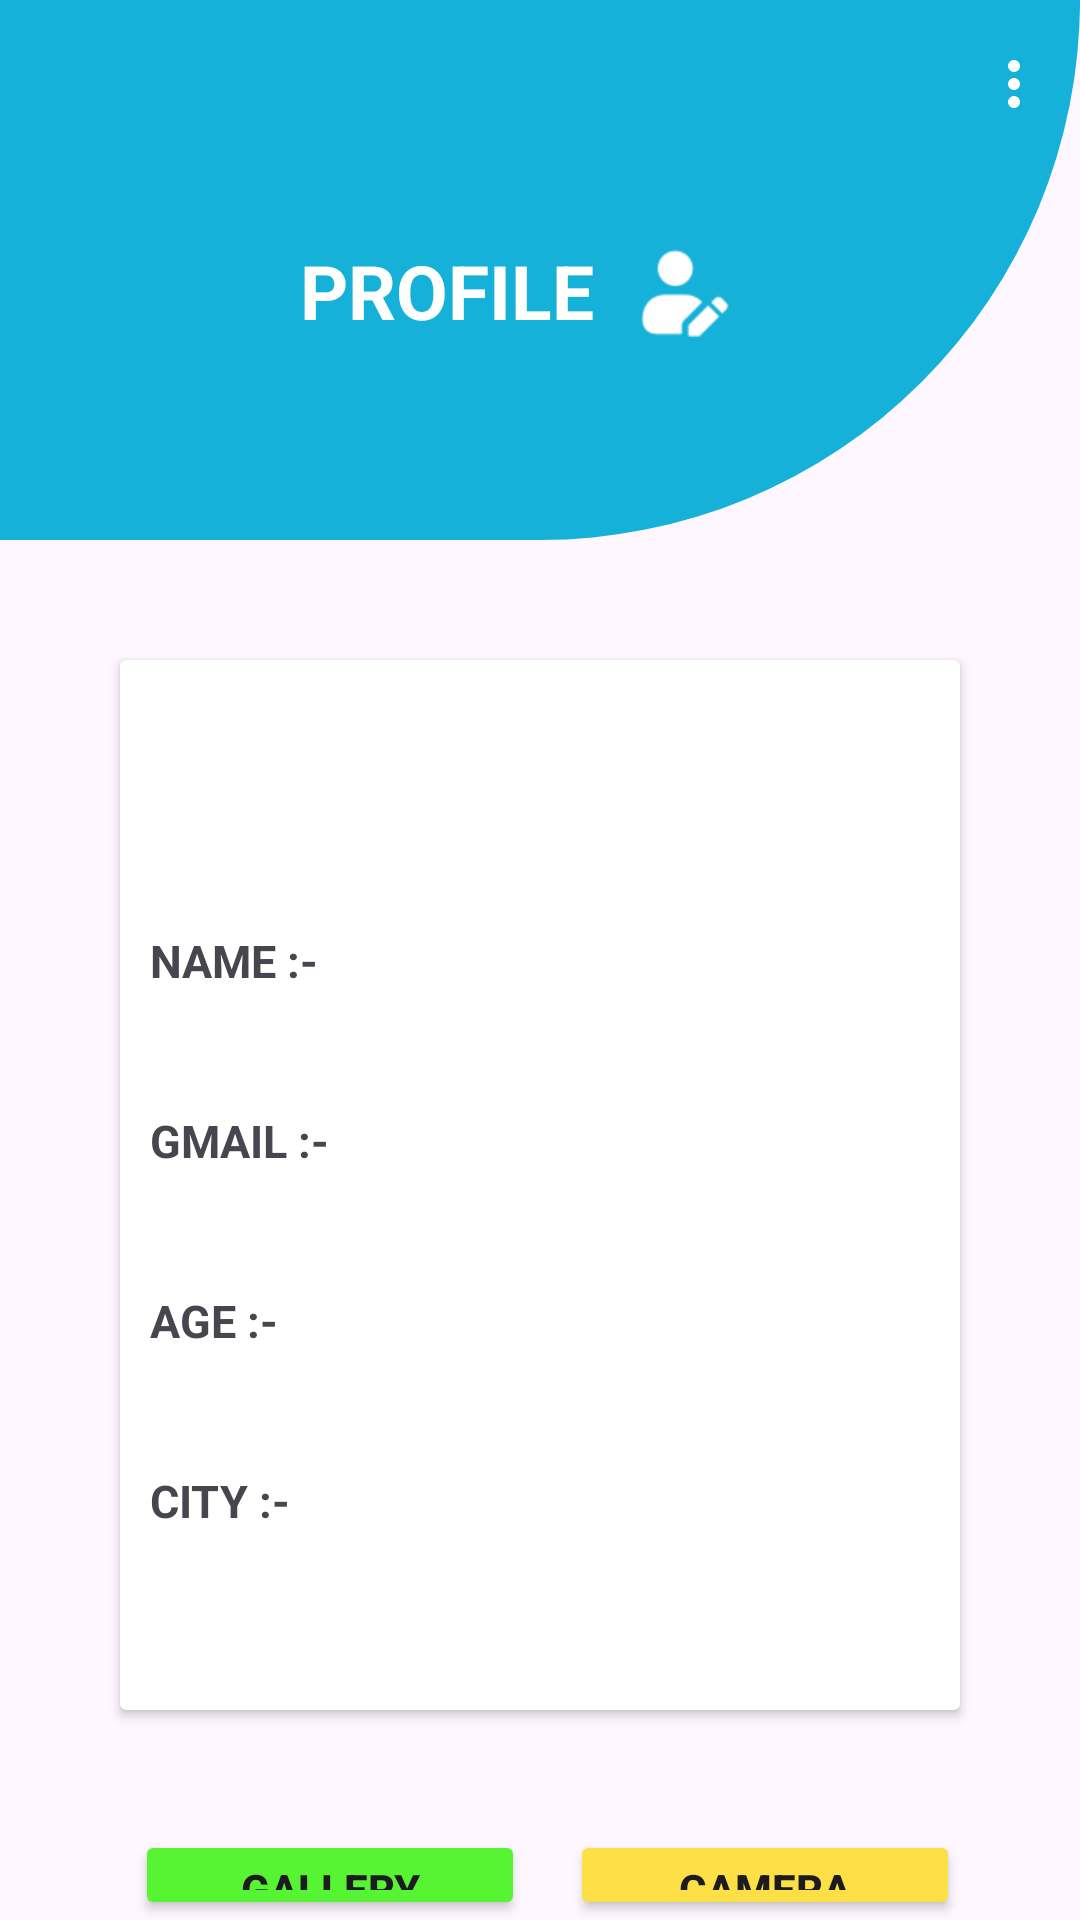

Icons on this 1080*1920 Android screen, each with its box as (x1, y1, x2, y2):
edit: (641, 250, 729, 337)
